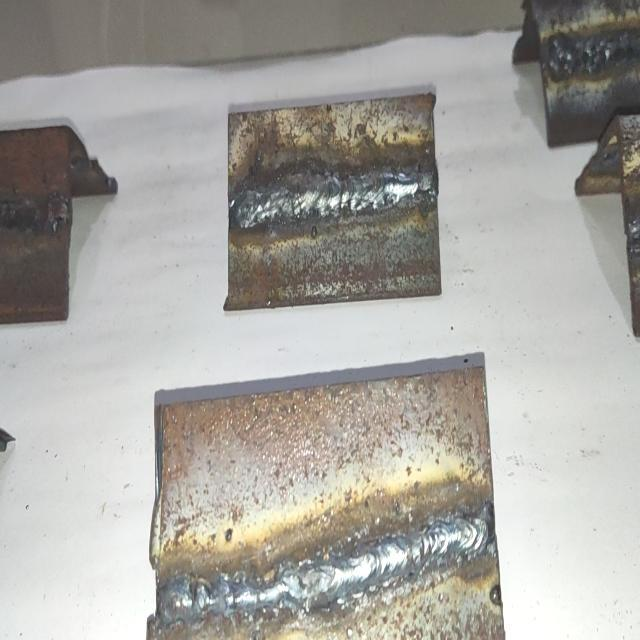Defect: (161, 576, 295, 628), (547, 36, 640, 72), (0, 198, 72, 234)
Welding Line: (161, 502, 495, 627), (232, 157, 438, 228), (540, 24, 640, 80), (0, 189, 72, 234)
Workpiece: (158, 370, 504, 640), (226, 92, 444, 304), (527, 0, 640, 145), (0, 121, 75, 326)
